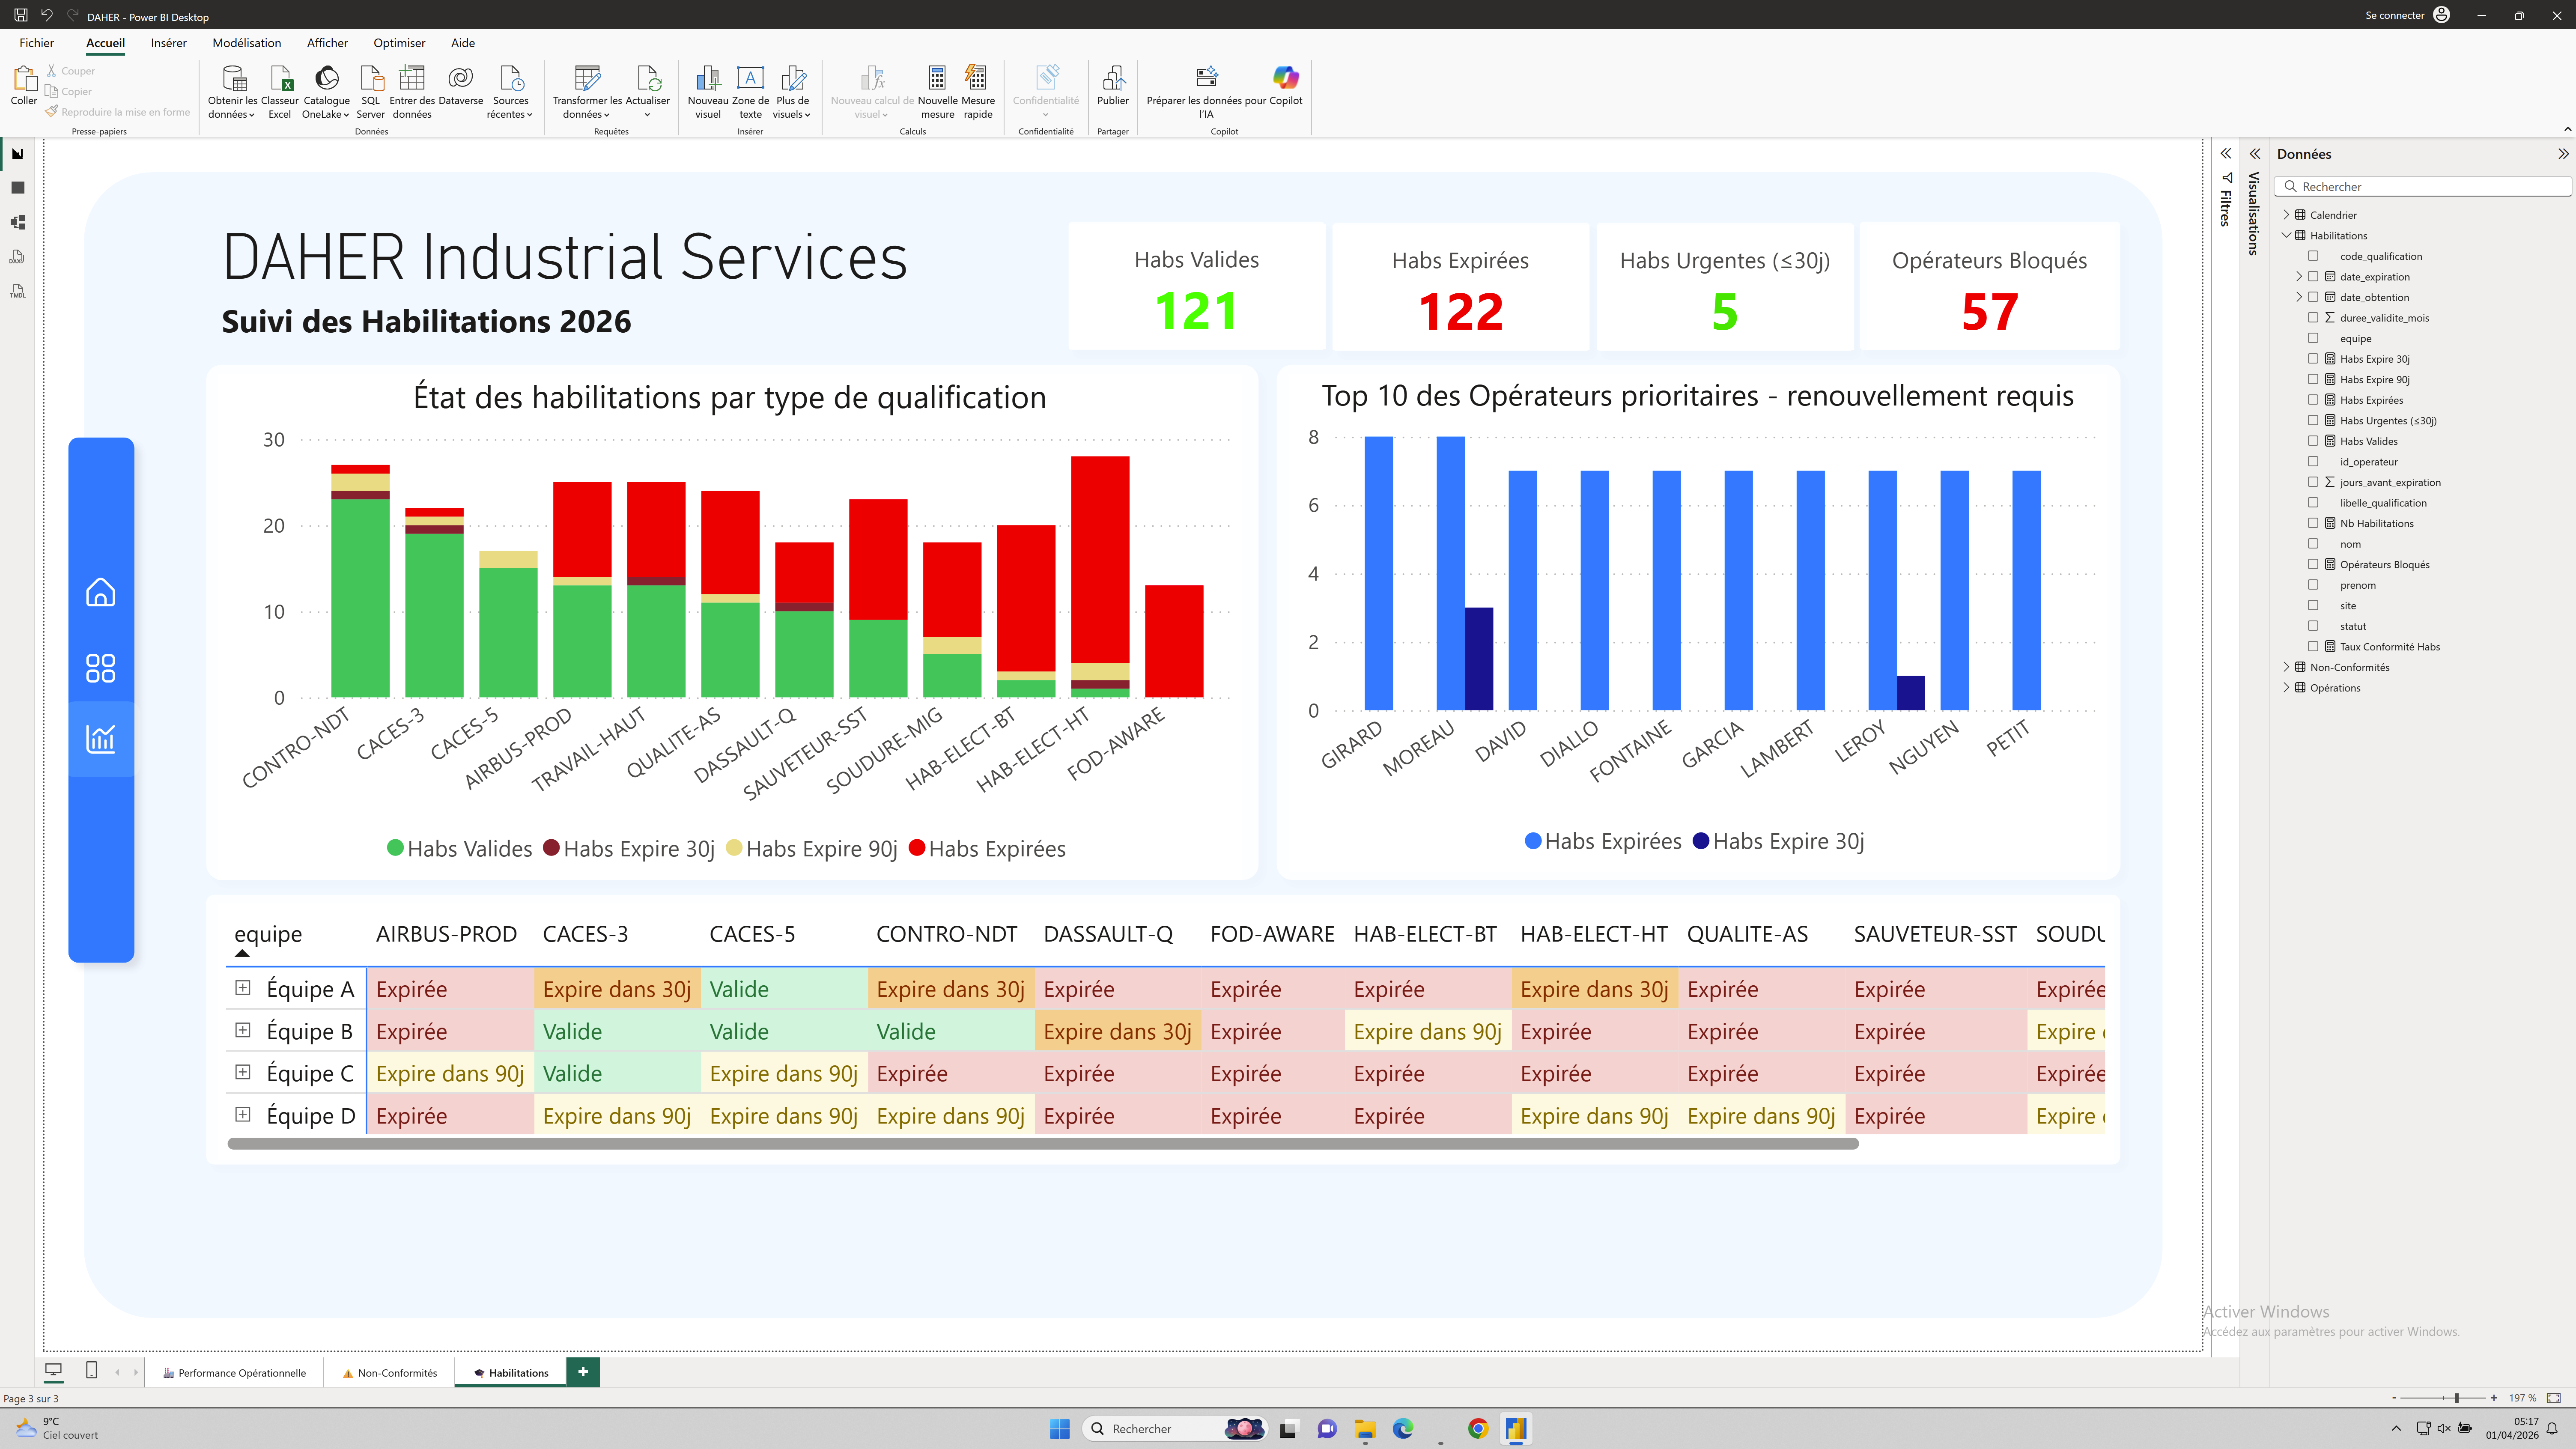

Layout of this report page (visuals, bound fields, positions):
{"tool":"powerbi","page":{"name":"🎓 Habilitations","canvas":[1280,720],"ordinal":2},"visuals":[{"type":"shape","box":[23.3,20.9,1233.4,679.9],"z":0},{"type":"shape","box":[5,169.2,57.2,329.8],"z":1000},{"type":"shape","box":[10.6,335,46.2,45],"z":2000},{"type":"group","id":"g1","title":"Group 1","box":[20,249,27.2,129.7],"z":3000},{"type":"image","box":[20,249,27.1,42.1],"z":3000,"group":"g1"},{"type":"shape","box":[86.9,126.2,642.5,323.8],"z":4000},{"type":"image","box":[20,294.3,27.2,42.2],"z":4000,"group":"g1"},{"type":"shape","box":[721.9,126.2,518.8,323.8],"z":5000},{"type":"image","box":[20,336.5,27.1,42.2],"z":5000,"group":"g1"},{"type":"textbox","box":[100,43,430,60],"z":6000},{"type":"shape","box":[911.9,41.9,170,94.4],"z":7000},{"type":"textbox","box":[100,91,605,35],"z":8000},{"type":"shape","box":[1068.1,41.2,172.5,94.4],"z":9000},{"type":"cardVisual","fields":{"Data":["Habilitations.Opérateurs Bloqués"]},"box":[1081.2,52.5,146.9,73.8],"z":10000},{"type":"lineStackedColumnComboChart","title":"État des habilitations par type de qualification","fields":{"Category":["Habilitations.code_qualification"],"Y":["Habilitations.Habs Valides","Habilitations.Habs Expire 30j","Habilitations.Habs Expire 90j","Habilitations.Habs Expirées"]},"box":[102.5,140.6,608.1,300],"z":11000},{"type":"shape","box":[86.9,440.6,1153.8,178.1],"z":12000},{"type":"clusteredColumnChart","title":"Top 10 des Opérateurs prioritaires - renouvellement requis","fields":{"Category":["Habilitations.nom","Habilitations.prenom"],"Y":["Habilitations.Habs Expirées","Habilitations.Habs Expire 30j"]},"box":[738.1,140.6,485.6,295.6],"z":13000},{"type":"pivotTable","fields":{"Rows":["Habilitations.equipe","Habilitations.nom"],"Columns":["Habilitations.code_qualification"],"Values":["Min(Habilitations.statut)"]},"box":[102.5,455,1125,151.9],"z":14000},{"type":"cardVisual","fields":{"Data":["Habilitations.Habs Urgentes (≤30j)"]},"box":[921.2,52.5,152.5,73.8],"z":15000},{"type":"shape","box":[755.6,41.9,170,94.4],"z":16000},{"type":"cardVisual","fields":{"Data":["Habilitations.Habs Expirées"]},"box":[764.4,52.5,152.5,73.8],"z":17000},{"type":"shape","box":[598.8,41.2,170,94.4],"z":18000},{"type":"cardVisual","fields":{"Data":["Habilitations.Habs Valides"]},"box":[607.5,51.9,152.5,73.8],"z":19000}]}

Visuals, with their boxes on the page's 1280x720 design canvas (x1, y1, x2, y2). These are canvas units, not pixel positions in the 2576x1449 screenshot, which may show the page scaled, cropped or inside an application window:
shape: [left=23, top=21, right=1257, bottom=701]
shape: [left=5, top=169, right=62, bottom=499]
shape: [left=11, top=335, right=57, bottom=380]
"Group 1" group: [left=20, top=249, right=47, bottom=379]
image: [left=20, top=249, right=47, bottom=291]
shape: [left=87, top=126, right=729, bottom=450]
image: [left=20, top=294, right=47, bottom=336]
shape: [left=722, top=126, right=1241, bottom=450]
image: [left=20, top=336, right=47, bottom=379]
textbox: [left=100, top=43, right=530, bottom=103]
shape: [left=912, top=42, right=1082, bottom=136]
textbox: [left=100, top=91, right=705, bottom=126]
shape: [left=1068, top=41, right=1241, bottom=136]
cardVisual - Habilitations.Opérateurs Bloqués: [left=1081, top=52, right=1228, bottom=126]
"État des habilitations par type de qualification" lineStackedColumnComboChart: [left=102, top=141, right=711, bottom=441]
shape: [left=87, top=441, right=1241, bottom=619]
"Top 10 des Opérateurs prioritaires - renouvellement requis" clusteredColumnChart: [left=738, top=141, right=1224, bottom=436]
pivotTable - Habilitations.equipe x Habilitations.nom: [left=102, top=455, right=1228, bottom=607]
cardVisual - Habilitations.Habs Urgentes (≤30j): [left=921, top=52, right=1074, bottom=126]
shape: [left=756, top=42, right=926, bottom=136]
cardVisual - Habilitations.Habs Expirées: [left=764, top=52, right=917, bottom=126]
shape: [left=599, top=41, right=769, bottom=136]
cardVisual - Habilitations.Habs Valides: [left=608, top=52, right=760, bottom=126]
